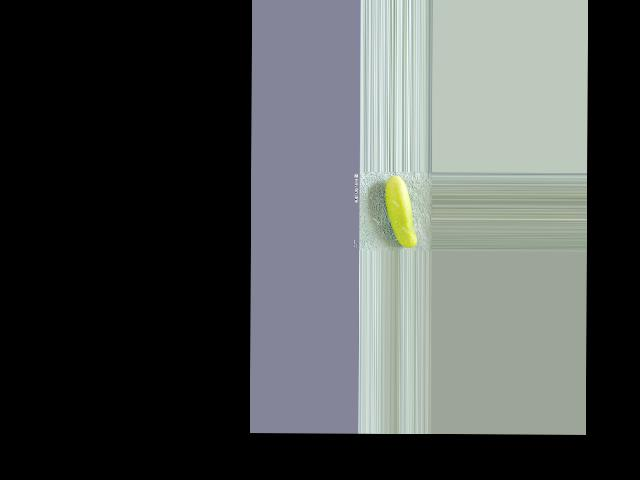cucumber: (384, 175, 417, 248)
